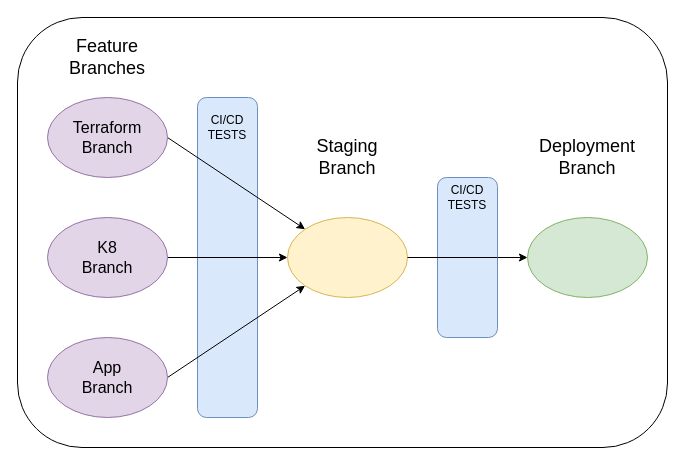
Some shapes in this 685 by 465 pixel diagram are drawn without their labels. The shapes that lost their labels are listed below. From the top down, each one's box as (x1, y1, x2, y2) in pixels, then its label:
(286, 216, 408, 298): Dev Branch
(526, 216, 648, 298): Main Branch
